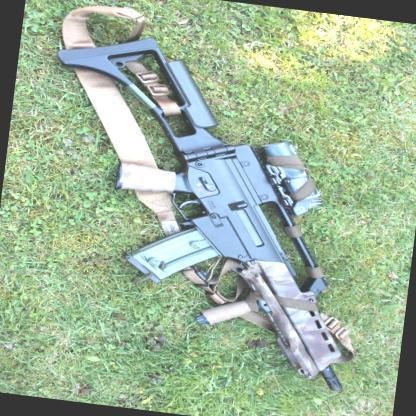rifle: (7, 26, 410, 398)
